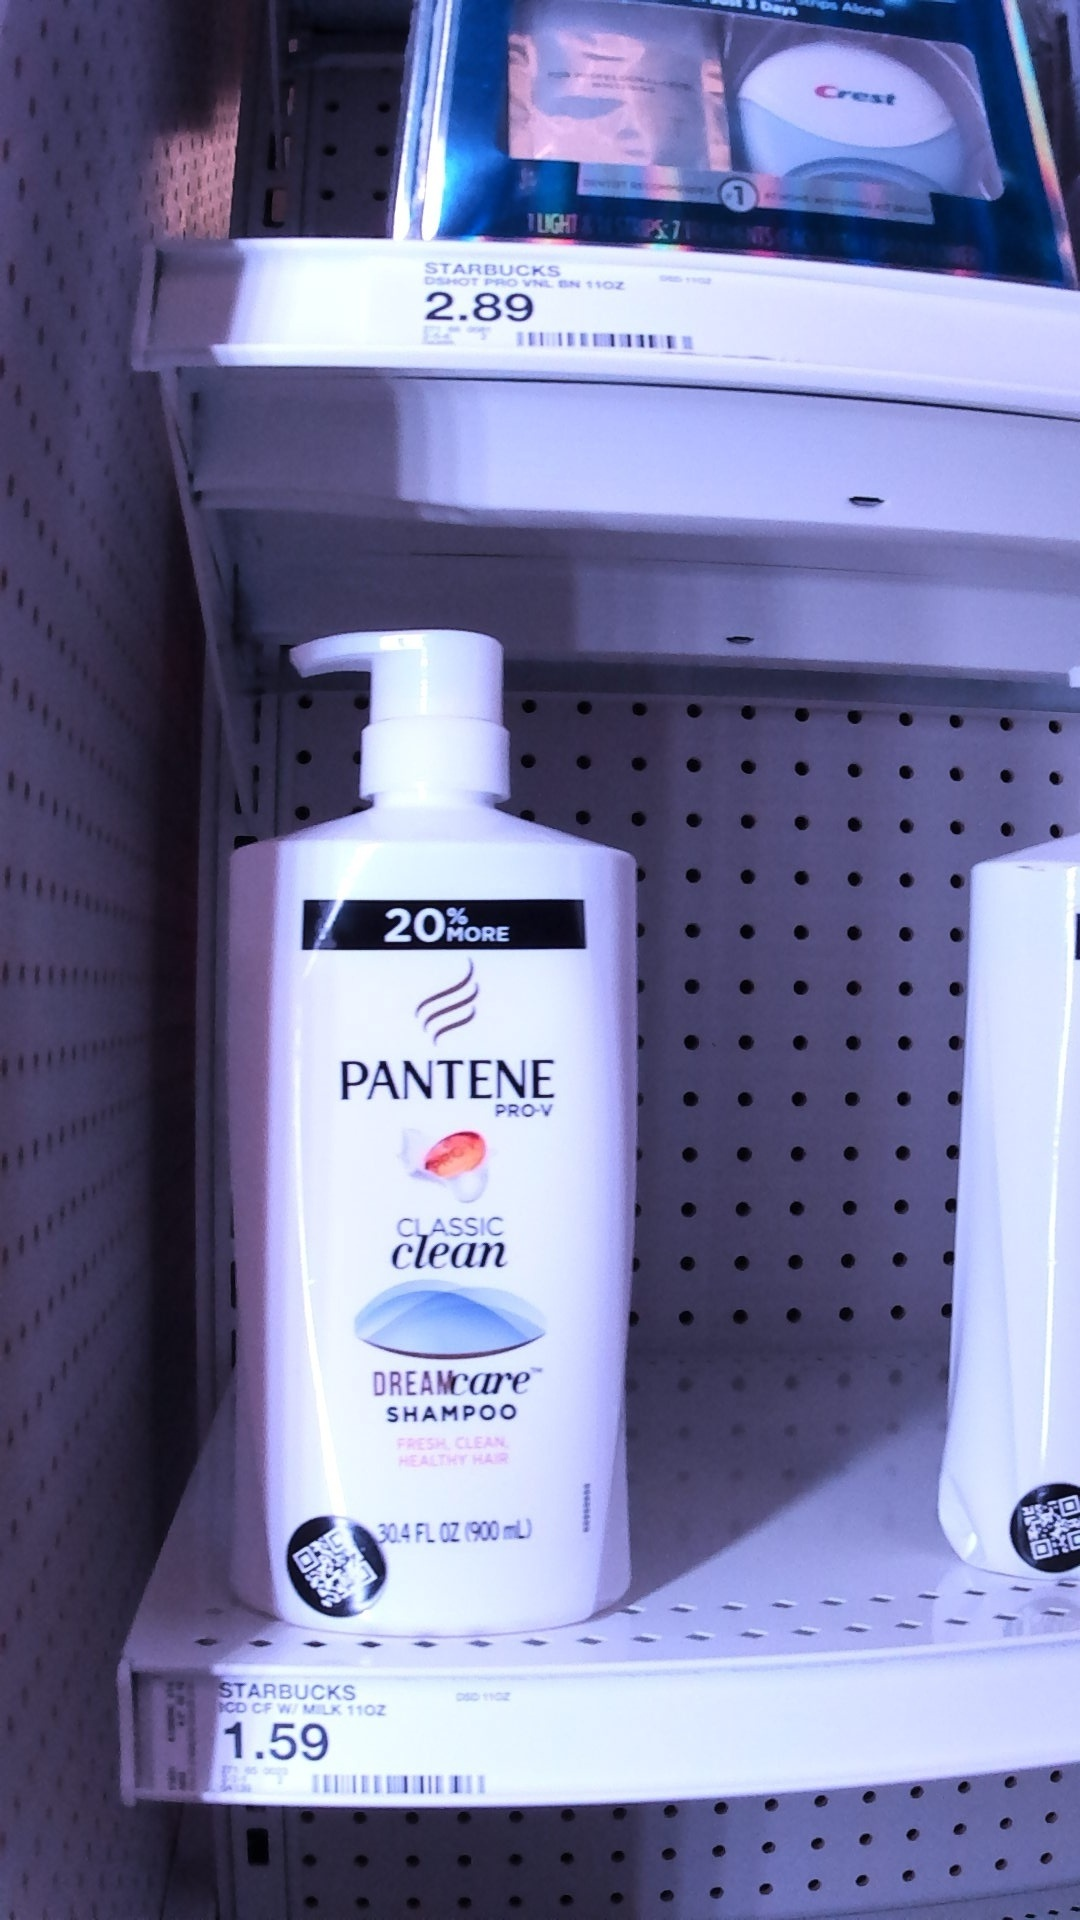ptag: (191, 1660, 522, 1817), (418, 243, 724, 377)
